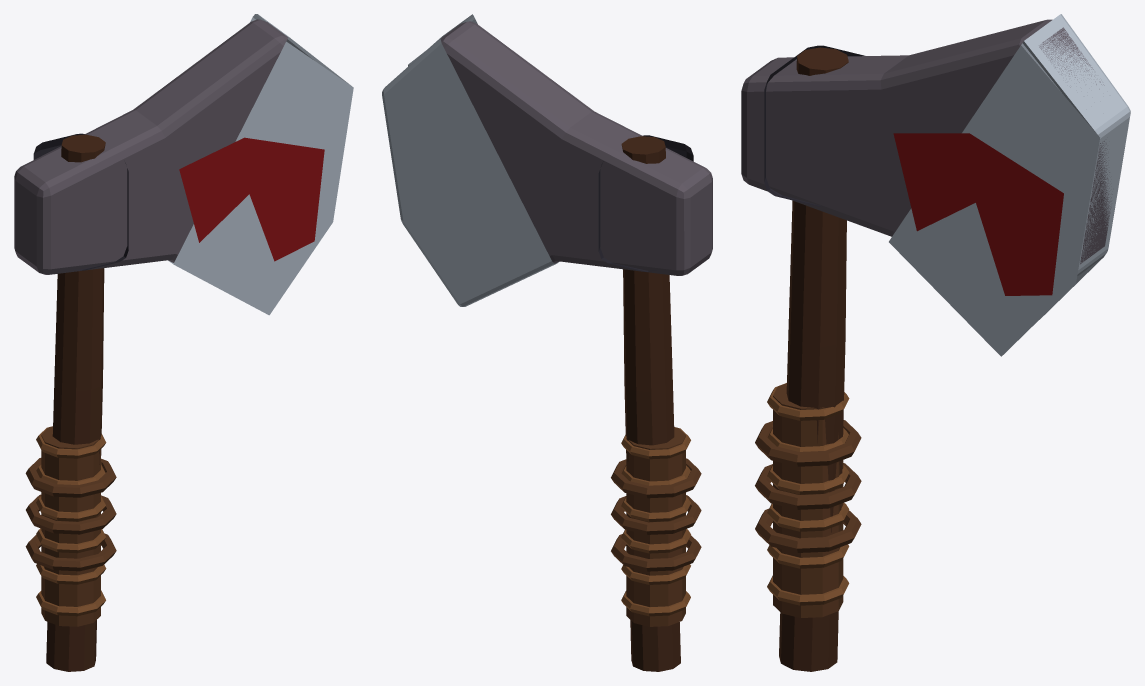
Rendered from evil_axe.glb.
The picture shows the model from 3 angles, left to right: view 1: azimuth 30°, elevation 25°; view 2: azimuth 150°, elevation 25°; view 3: azimuth 330°, elevation 25°; orthographic projection. The views are drawn at different scales.
Parts seen in each view (by area): view 1: Forged crescent axe blade.002, Sharpened axe cutting edge.002, Axe ash handle.002, Crimson axe blade motif.001, Leather axe grip.002, Woodland equipment worn binding.002, Woodland equipment worn binding, Woodland equipment worn binding.001, Grip wrapping.017, Grip wrapping.015, Grip wrapping.012, Grip wrapping.014 (+2 smaller); view 2: Forged crescent axe blade.002, Sharpened axe cutting edge.002, Axe ash handle.002, Leather axe grip.002, Woodland equipment worn binding.002, Woodland equipment worn binding, Woodland equipment worn binding.001, Iron axe socket.002, Grip wrapping.017, Grip wrapping.014, Grip wrapping.015, Grip wrapping.012 (+1 smaller); view 3: Forged crescent axe blade.002, Sharpened axe cutting edge.002, Axe ash handle.002, Crimson axe blade motif.001, Leather axe grip.002, Woodland equipment worn binding.002, Woodland equipment worn binding, Woodland equipment worn binding.001, Grip wrapping.012, Grip wrapping.014, Grip wrapping.015, Grip wrapping.017 (+2 smaller).
Boxes of the visible parts, left/top/right/bottom form: Forged crescent axe blade.002: left=14, top=19, right=287, bottom=274; Sharpened axe cutting edge.002: left=168, top=14, right=353, bottom=315; Axe ash handle.002: left=46, top=134, right=105, bottom=671; Crimson axe blade motif.001: left=179, top=137, right=324, bottom=261; Leather axe grip.002: left=41, top=426, right=100, bottom=626; Woodland equipment worn binding.002: left=25, top=458, right=116, bottom=497; Woodland equipment worn binding: left=25, top=533, right=116, bottom=571; Woodland equipment worn binding.001: left=26, top=494, right=116, bottom=534; Grip wrapping.017: left=36, top=427, right=106, bottom=458; Grip wrapping.015: left=36, top=496, right=106, bottom=521; Grip wrapping.012: left=36, top=590, right=105, bottom=616; Grip wrapping.014: left=36, top=528, right=105, bottom=553; Forged crescent axe blade.002: left=440, top=21, right=712, bottom=275; Sharpened axe cutting edge.002: left=382, top=14, right=559, bottom=306; Axe ash handle.002: left=621, top=136, right=680, bottom=671; Leather axe grip.002: left=626, top=427, right=685, bottom=626; Woodland equipment worn binding.002: left=611, top=458, right=701, bottom=498; Woodland equipment worn binding: left=611, top=534, right=701, bottom=571; Woodland equipment worn binding.001: left=611, top=495, right=701, bottom=534; Iron axe socket.002: left=598, top=135, right=693, bottom=271; Grip wrapping.017: left=621, top=428, right=690, bottom=459; Grip wrapping.014: left=621, top=529, right=690, bottom=553; Grip wrapping.015: left=621, top=496, right=690, bottom=521; Grip wrapping.012: left=621, top=591, right=690, bottom=616; Forged crescent axe blade.002: left=741, top=19, right=1112, bottom=264; Sharpened axe cutting edge.002: left=889, top=14, right=1130, bottom=356; Axe ash handle.002: left=779, top=47, right=848, bottom=671; Crimson axe blade motif.001: left=893, top=133, right=1063, bottom=295; Leather axe grip.002: left=773, top=383, right=843, bottom=617; Woodland equipment worn binding.002: left=755, top=420, right=861, bottom=466; Woodland equipment worn binding: left=755, top=508, right=861, bottom=552; Woodland equipment worn binding.001: left=755, top=463, right=861, bottom=509; Grip wrapping.012: left=767, top=575, right=849, bottom=605; Grip wrapping.014: left=767, top=503, right=849, bottom=531; Grip wrapping.015: left=767, top=465, right=849, bottom=494; Grip wrapping.017: left=767, top=383, right=849, bottom=420.
Size of the model in its own units: 0.6196 by 1.12 by 0.16.
